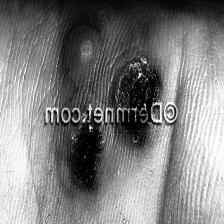Toxin: (119, 56, 159, 137), (70, 125, 106, 186)
